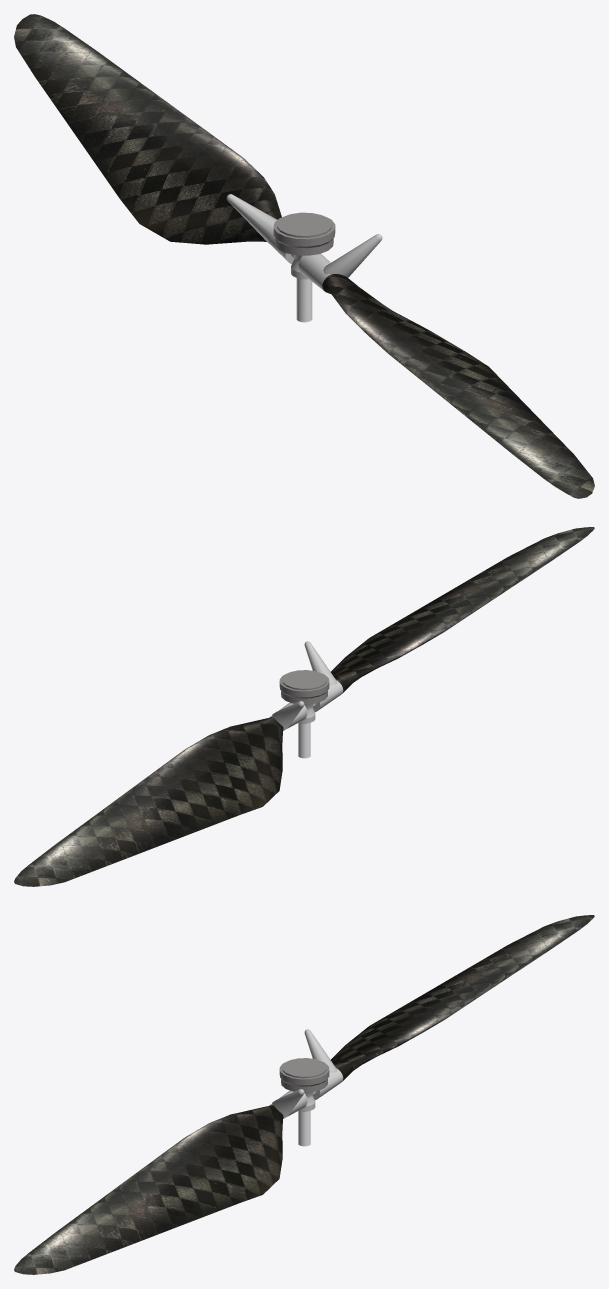
Rendered from rotor_down.dae.
3 views of the same model, one above another, from view 1: azimuth 30°, elevation 25°; view 2: azimuth 150°, elevation 25°; view 3: azimuth 330°, elevation 25° (orthographic). The views are drawn at different scales.
Visible parts, largest first — view 1: rotors_02; view 2: rotors_02; view 3: rotors_02.
Part boxes in pixels (x1,y1,x2,y2): rotors_02: (14, 14, 594, 498); rotors_02: (14, 527, 594, 886); rotors_02: (14, 915, 594, 1274).
Bounding box in the file's own units: 0.1253 × 1.21 × 0.1101.
